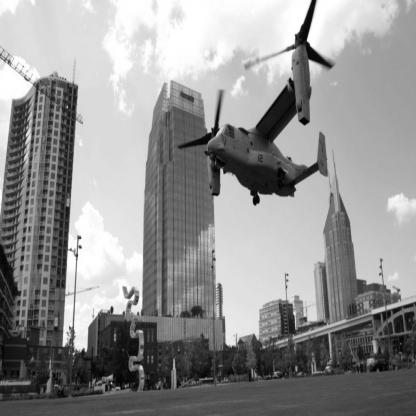V22: (178, 2, 335, 208)
